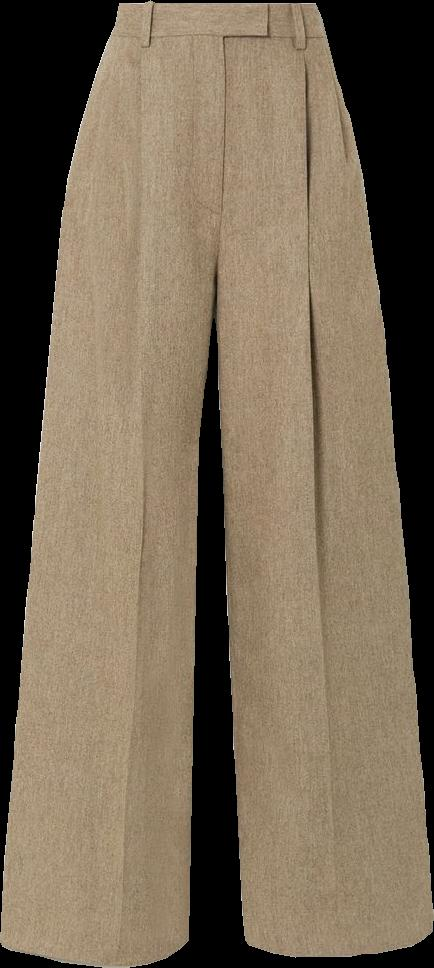Hemline: (240, 922, 433, 960), (0, 930, 196, 966)
Pantleg: (0, 2, 226, 966), (213, 3, 433, 955)
Waistline: (109, 23, 325, 48), (116, 0, 317, 14)
